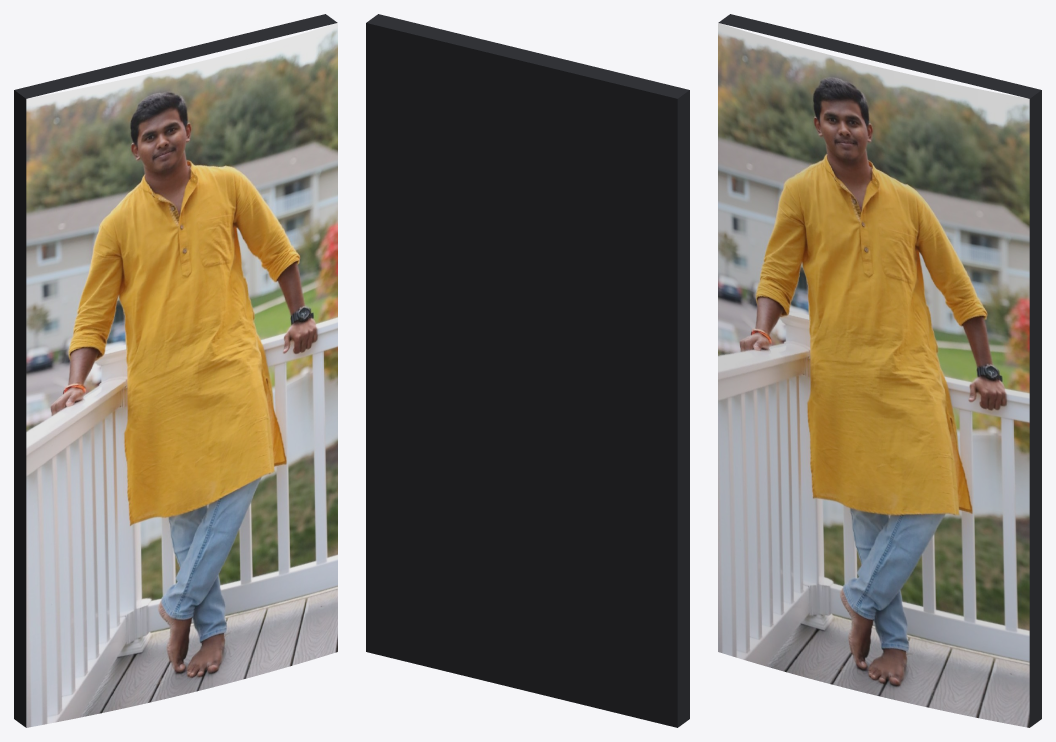
File: nithin-portrait.glb
3 views of the same model, side by side, from view 1: azimuth 30°, elevation 25°; view 2: azimuth 150°, elevation 25°; view 3: azimuth 330°, elevation 25° (orthographic).
Visible parts, largest first — view 1: Nithin Portrait; view 2: Nithin Portrait; view 3: Nithin Portrait.
Boxes of the visible parts, x1,y1,x2,y2 form: Nithin Portrait: (14, 14, 337, 727); Nithin Portrait: (366, 14, 689, 727); Nithin Portrait: (718, 14, 1041, 727).
Size of the model in its own units: 2.07 by 4 by 0.2.
Materials: 2 (1 with a texture image).
